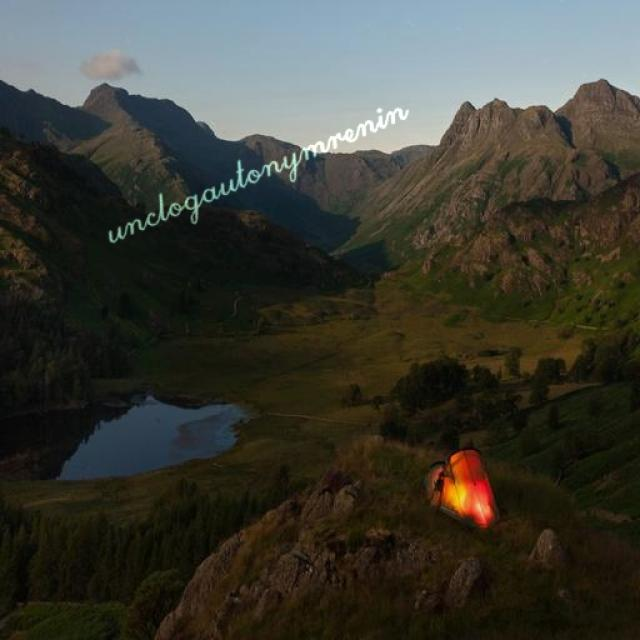watermark: (101, 88, 409, 249)
